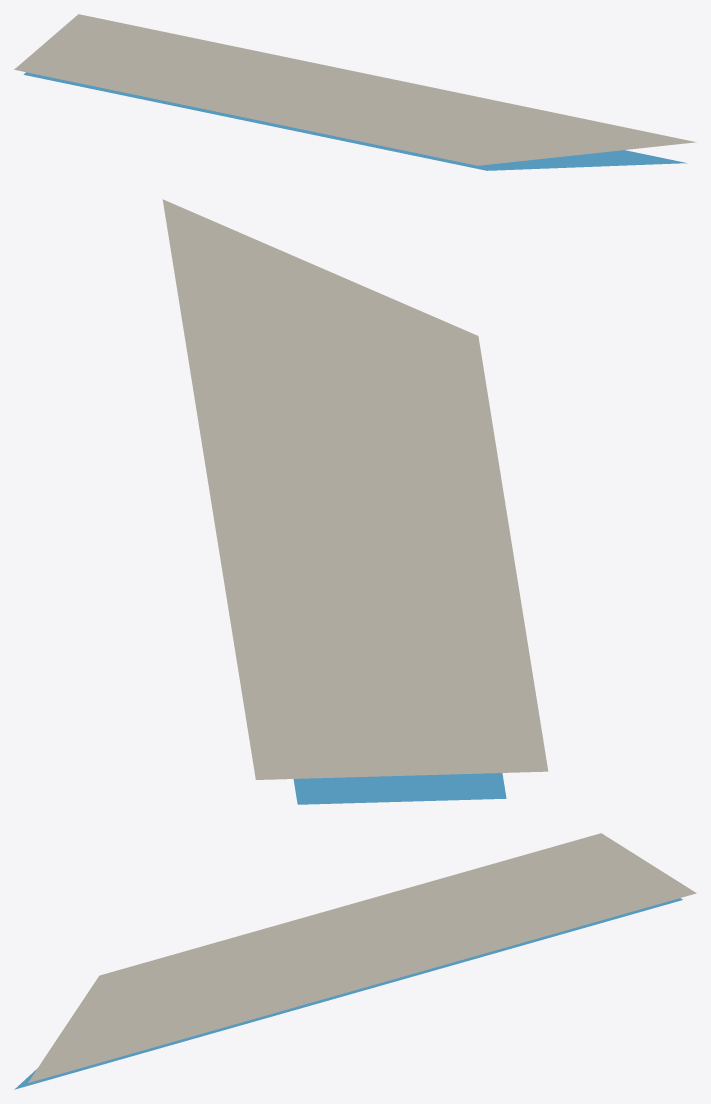
3 renders of one model, top to bottom at view 1: azimuth 30°, elevation 25°; view 2: azimuth 150°, elevation 25°; view 3: azimuth 270°, elevation 25°, orthographic. The views are drawn at different scales.
Parts seen in each view (by area): view 1: estructura_terreno, estructura_agua; view 2: estructura_terreno, estructura_agua; view 3: estructura_terreno, estructura_agua.
Part boxes in pixels (x1,y1,x2,y2): estructura_terreno: (14, 14, 696, 165); estructura_agua: (23, 72, 687, 170); estructura_terreno: (162, 199, 548, 779); estructura_agua: (293, 773, 506, 804); estructura_terreno: (28, 833, 696, 1082); estructura_agua: (14, 898, 682, 1089).
Bounding box in the file's own units: 14.49 × 0.41 × 16.72.
